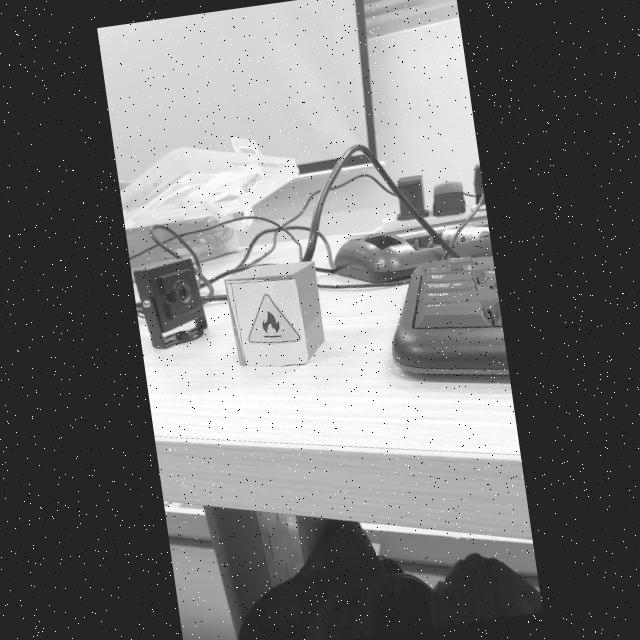Fire: (249, 294, 299, 343)
